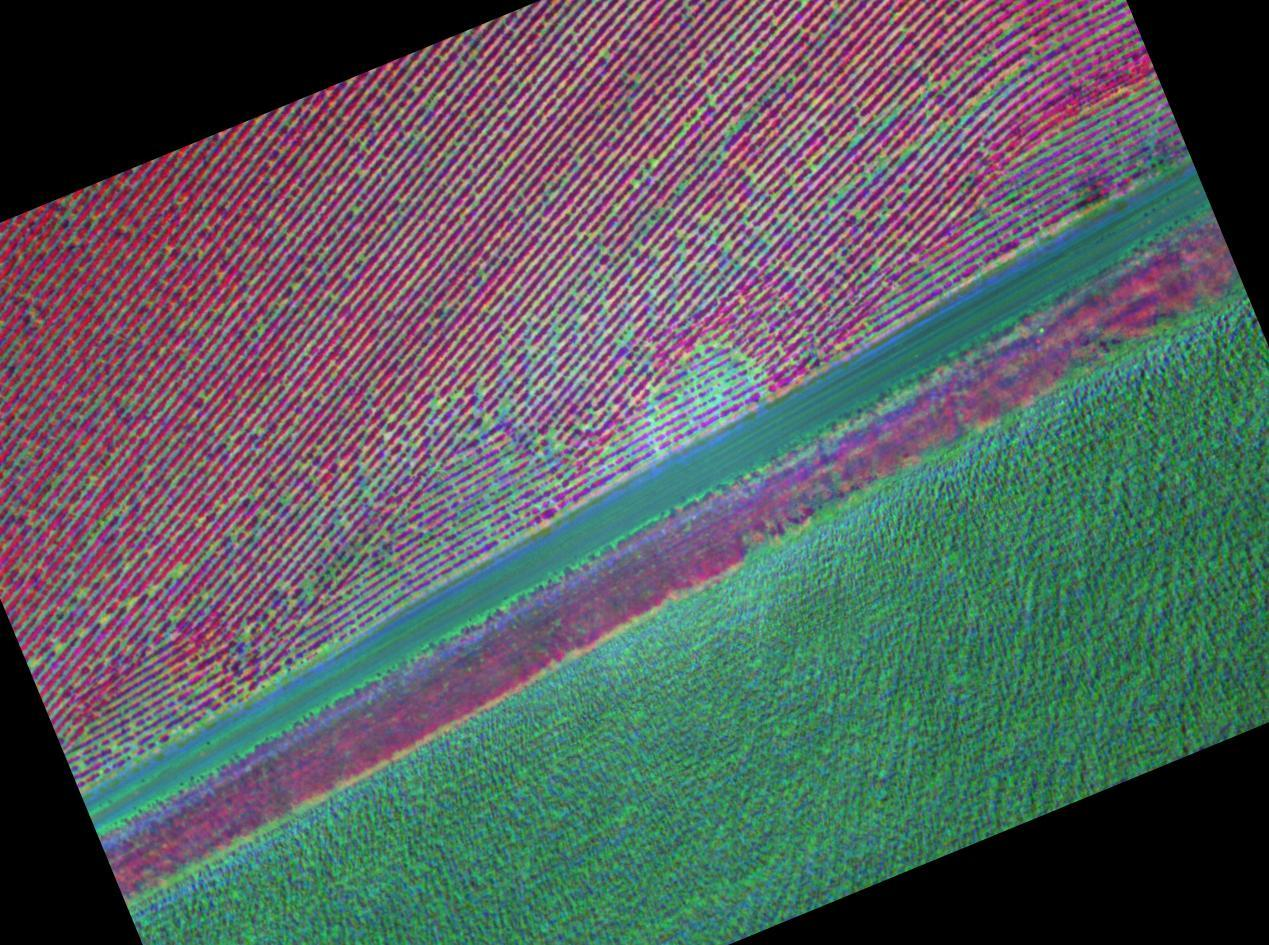dc: (851, 132, 860, 142), (173, 567, 183, 576), (732, 351, 741, 360), (1004, 22, 1012, 31), (701, 216, 709, 223)
